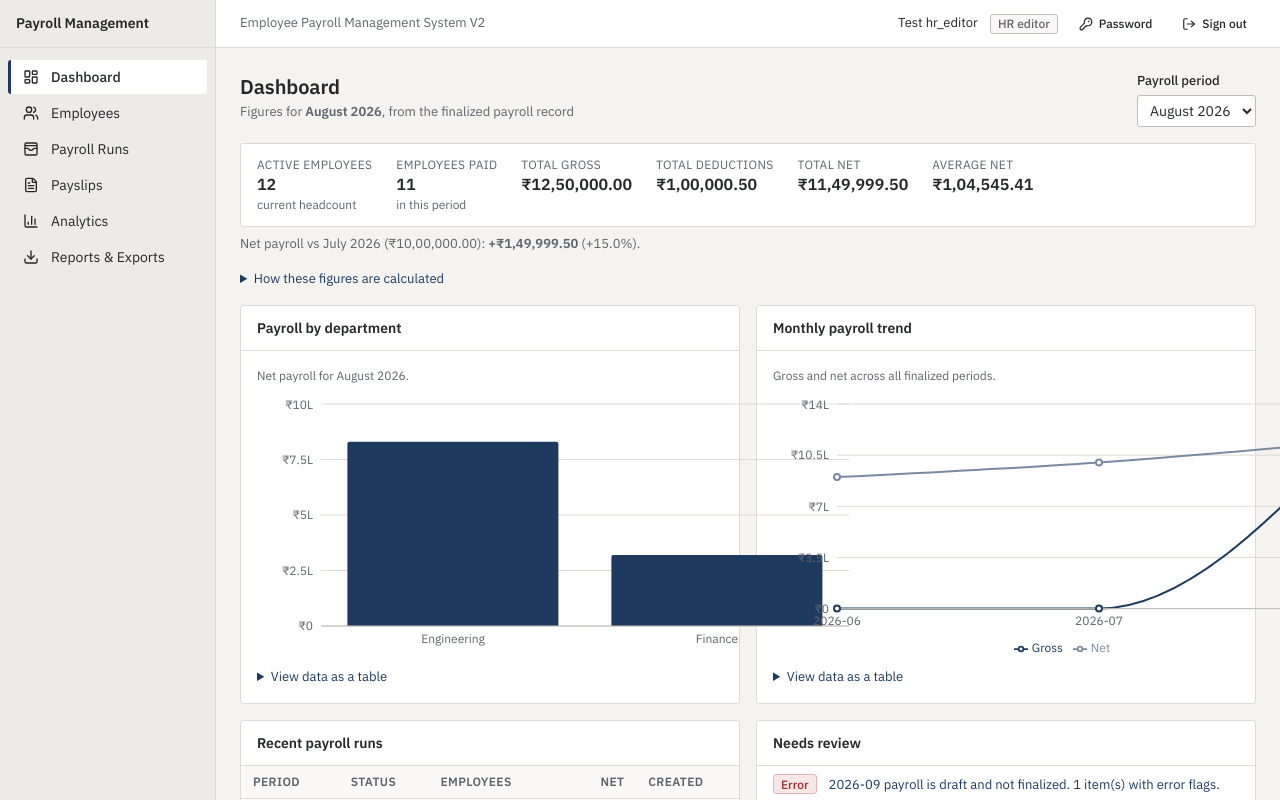
Dashboard › explains the calculation and states that nothing is estimated
Click the heading "How these figures are calculated".
click(349, 278)  # box [254, 270, 444, 287]
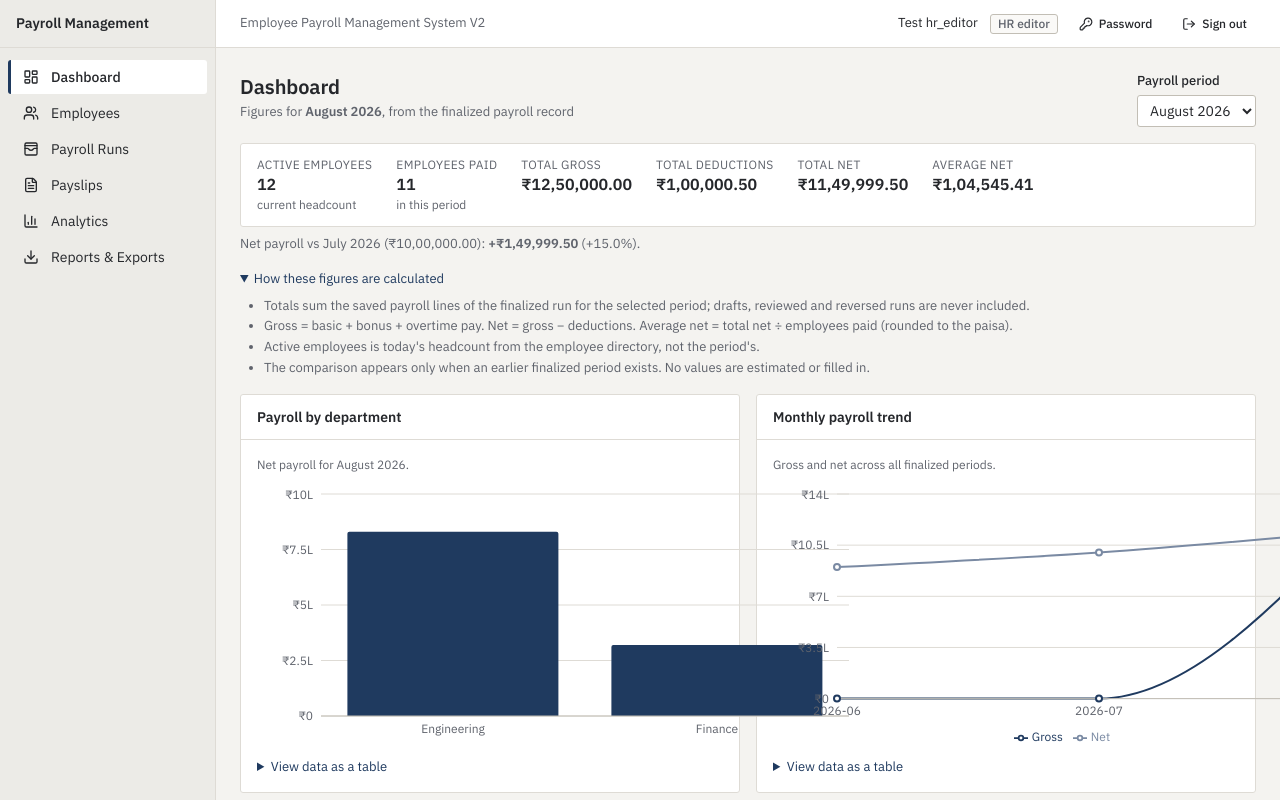
Now the list item "never included" is shown, box [264, 296, 1030, 314]
Now the list item "No values are estimated or filled in" is shown, box [264, 359, 870, 376]
